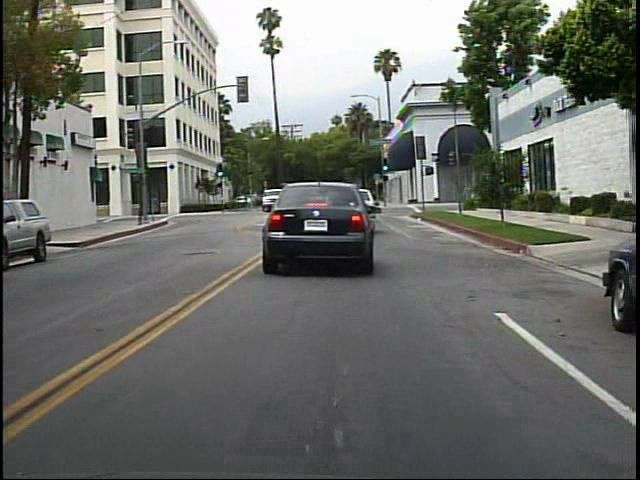person: (303, 182, 329, 221)
